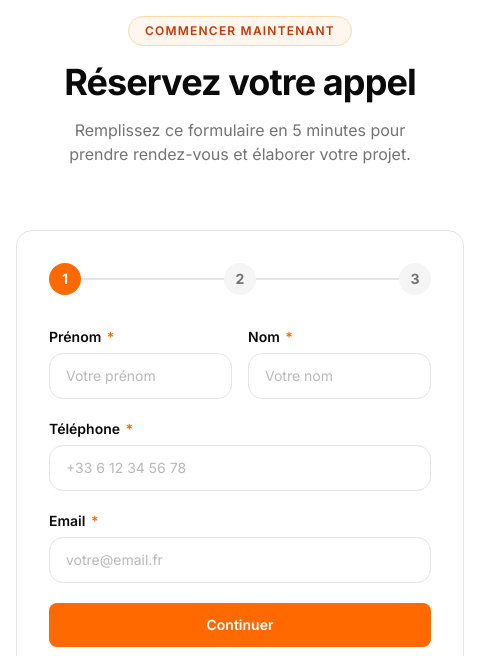
AuditForm › passe à l'étape 2 après avoir rempli l'étape 1
In the field with placeholder "Votre prénom": (140, 376) [49,353,232,399], type "Andy"
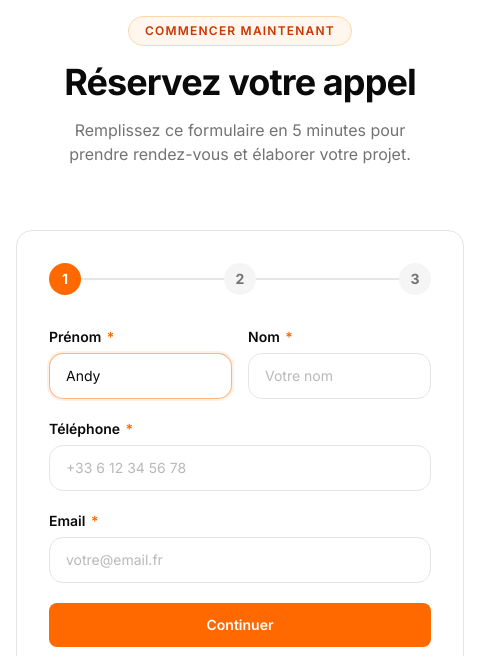
In the field with placeholder "Votre nom": (340, 376) [248,353,431,399], type "Ramaroson"
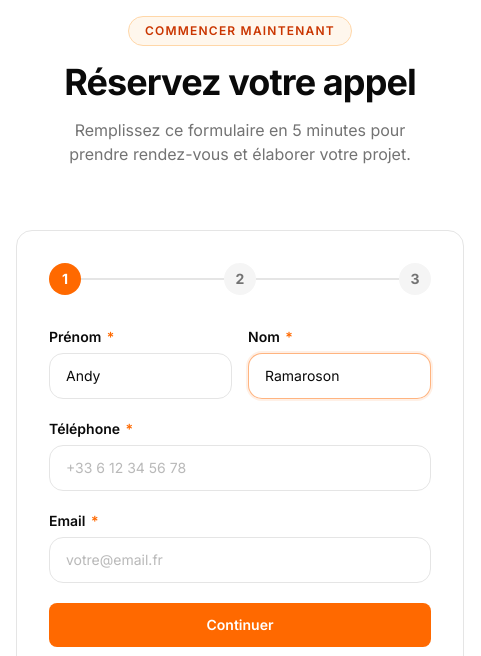
In the field with placeholder "+33 6 12 34 56 78": (240, 468) [49,445,431,491], type "0612345678"
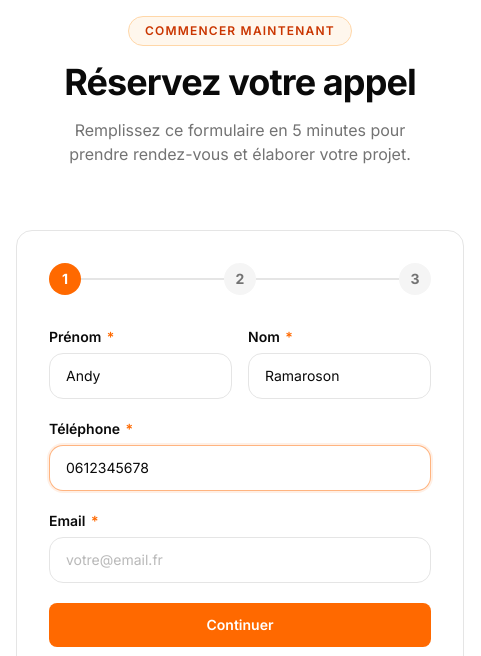
In the field with placeholder "votre@email.fr": (240, 560) [49,537,431,583], type "andy@lemurian.fr"
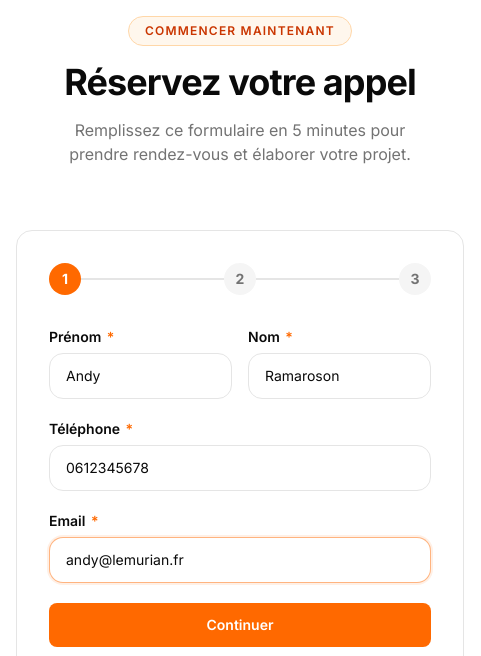
Click the button with test id "next-btn": (240, 625) [49,603,431,647]
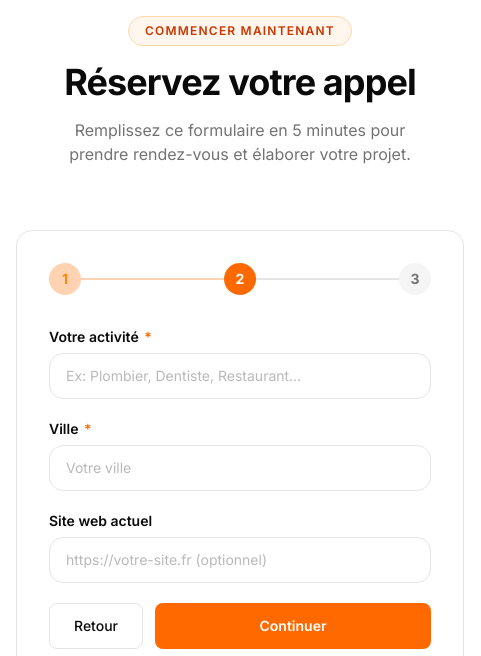
Expected: the element with test id "step-2" is shown, [49,327,431,649]
